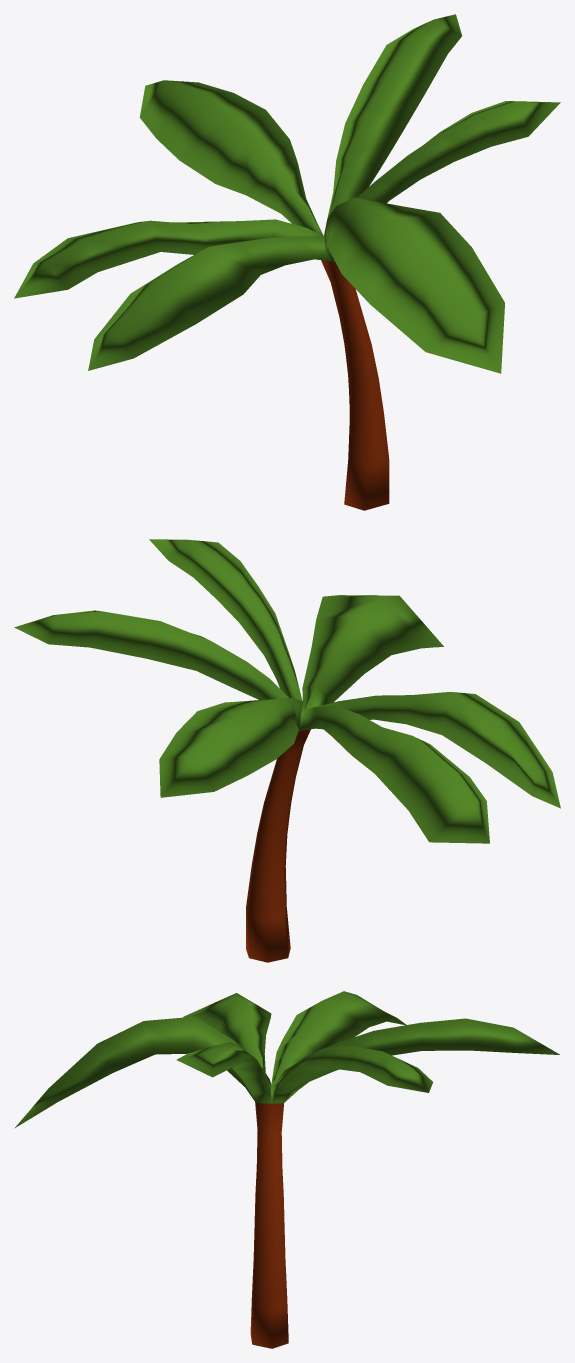
Rendered from palmtree2.obj.
3 views of the same model, one above another, from view 1: azimuth 30°, elevation 25°; view 2: azimuth 150°, elevation 25°; view 3: azimuth 270°, elevation 25° (orthographic). The views are drawn at different scales.
Visible parts, largest first — view 1: polySurface1; view 2: polySurface1; view 3: polySurface1.
Boxes of the visible parts, x1,y1,x2,y2 form: polySurface1: (14,14,560,510); polySurface1: (14,539,560,962); polySurface1: (14,991,559,1348).
Bounding box in the file's own units: 873 × 683 × 1000.
